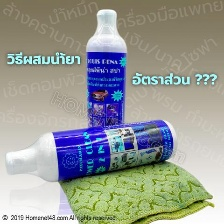cleaning_solution: (1, 118, 180, 187), (82, 7, 129, 157)
